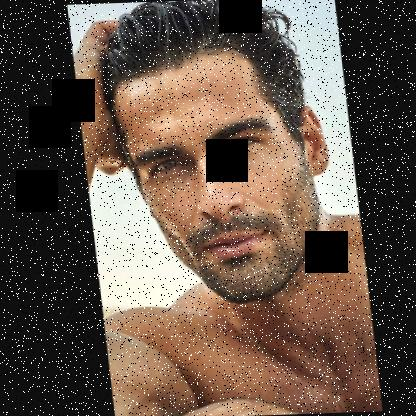Male: (103, 43, 341, 305)
